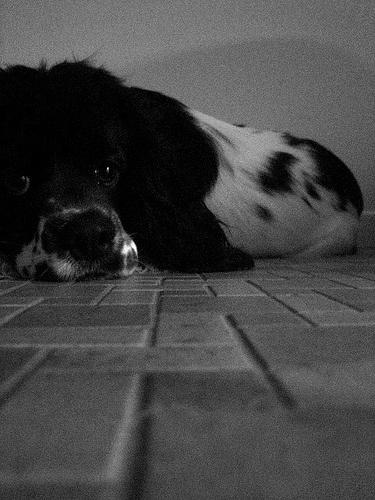dog: (1, 61, 365, 283)
